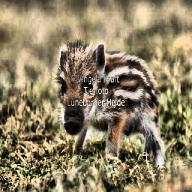boar: (55, 40, 165, 169)
